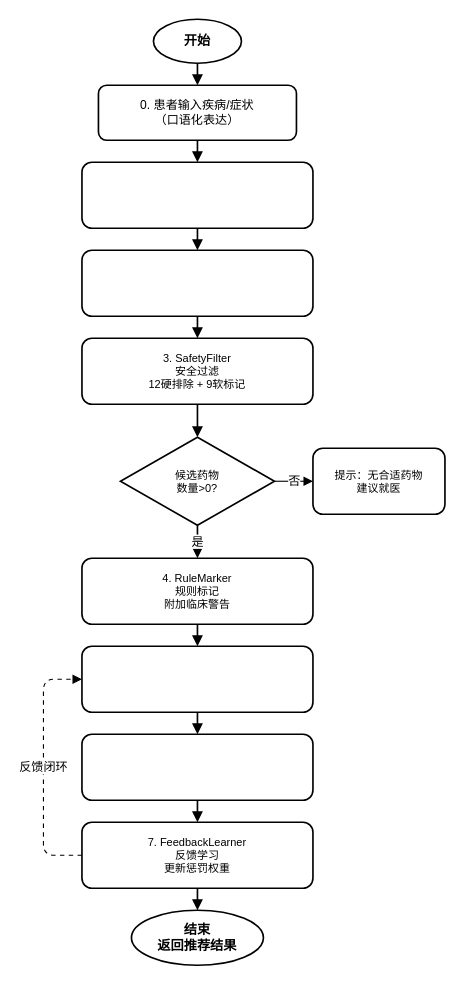
The diagram is 464 pixels wide and 986 high, and some of its shapes have lost their labels. Here are the shapes that lost their labels. From the top down, the centre of each, then its label:
point (197, 195): 1. PatientInputEnhancer 患者口语增强 精确匹配→关键词→症状组合
point (197, 283): 2. KnowledgeRouter 临床知识路由 L1→L2→L3→L4 四级路由
point (197, 679): 5. DeepFM排序 个性化评分 药类评分 + 反馈惩罚
point (197, 767): 6. ReviewPanel 医生审核 确认/修改/拒绝
